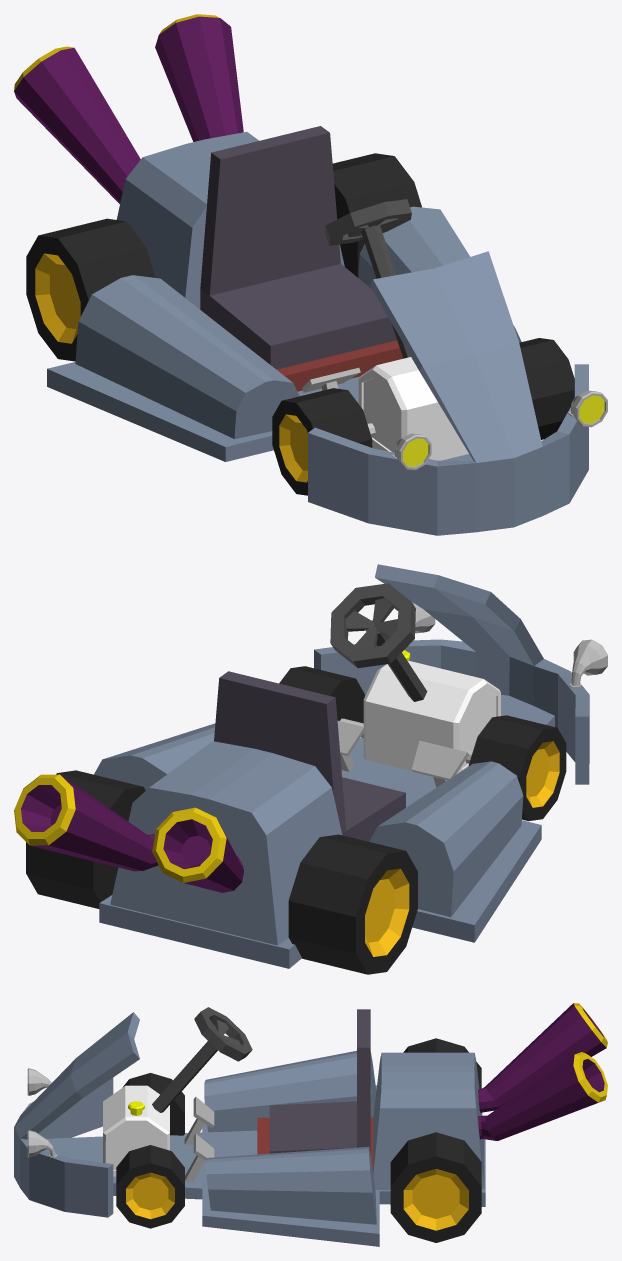
The model's file is BlueberrySodaKart.glb.
3 renders of one model, top to bottom at view 1: azimuth 30°, elevation 25°; view 2: azimuth 150°, elevation 25°; view 3: azimuth 270°, elevation 25°, orthographic. The views are drawn at different scales.
Visible parts, largest first — view 1: KartPlataform1, Hood1, Chair1, Catalysts1, Wheel_BR, Wheel_FR, Wheel_BL, Wheel_FL, SteeringWheel1, Lights_Kart1, Pedals1; view 2: KartPlataform1, Hood1, Wheel_BR, Catalysts1, Chair1, SteeringWheel1, Wheel_FR, Wheel_BL, Pedals1, Wheel_FL, Lights_Kart1; view 3: KartPlataform1, Hood1, Catalysts1, Wheel_BL, Chair1, Wheel_FL, SteeringWheel1, Pedals1, Wheel_FR, Lights_Kart1, Wheel_BR.
Boxes of the visible parts, left/top/right/bottom form: KartPlataform1: left=47, top=132, right=521, bottom=461; Hood1: left=308, top=251, right=588, bottom=535; Chair1: left=200, top=126, right=403, bottom=391; Catalysts1: left=14, top=14, right=243, bottom=203; Wheel_BR: left=26, top=218, right=155, bottom=361; Wheel_FR: left=272, top=388, right=372, bottom=495; Wheel_BL: left=332, top=153, right=421, bottom=277; Wheel_FL: left=519, top=338, right=574, bottom=439; SteeringWheel1: left=324, top=199, right=411, bottom=358; Lights_Kart1: left=392, top=390, right=607, bottom=470; Pedals1: left=302, top=367, right=360, bottom=392; KartPlataform1: left=94, top=650, right=554, bottom=968; Hood1: left=314, top=564, right=589, bottom=784; Wheel_BR: left=288, top=834, right=417, bottom=974; Catalysts1: left=14, top=774, right=243, bottom=892; Chair1: left=214, top=671, right=405, bottom=841; SteeringWheel1: left=330, top=583, right=427, bottom=701; Wheel_FR: left=468, top=715, right=566, bottom=821; Wheel_BL: left=26, top=770, right=145, bottom=908; Pedals1: left=337, top=720, right=468, bottom=787; Wheel_FL: left=279, top=666, right=364, bottom=723; Lights_Kart1: left=412, top=602, right=607, bottom=687; KartPlataform1: left=45, top=1050, right=485, bottom=1246; Hood1: left=14, top=1012, right=139, bottom=1217; Catalysts1: left=478, top=1003, right=607, bottom=1140; Wheel_BL: left=390, top=1132, right=481, bottom=1242; Chair1: left=257, top=1009, right=373, bottom=1172; Wheel_FL: left=116, top=1145, right=184, bottom=1228; SteeringWheel1: left=152, top=1007, right=252, bottom=1112; Pedals1: left=184, top=1097, right=214, bottom=1181; Wheel_FR: left=122, top=1073, right=184, bottom=1135; Lights_Kart1: left=27, top=1068, right=57, bottom=1157; Wheel_BR: left=403, top=1038, right=481, bottom=1089.
Bounding box in the file's own units: 10.53 × 5.62 × 17.74.
